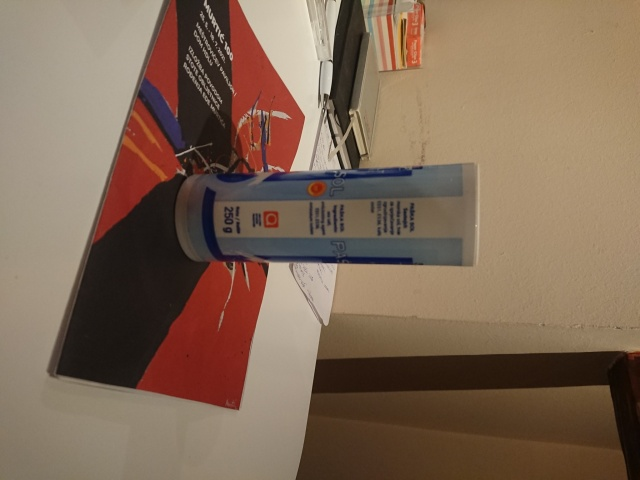Solana Pag Fine Sea Salt 250g: (170, 159, 484, 272)
